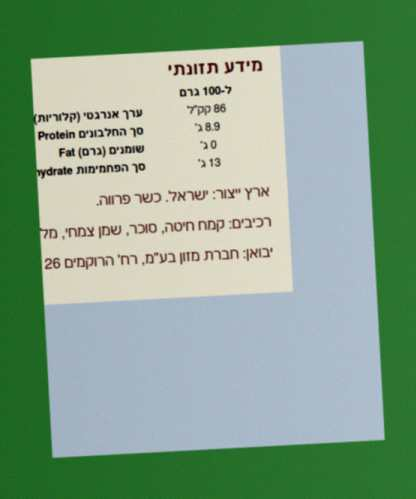carbs: (197, 156, 222, 171)
energy: (185, 101, 228, 118)
fat: (199, 138, 218, 153)
protein: (193, 120, 222, 135)
